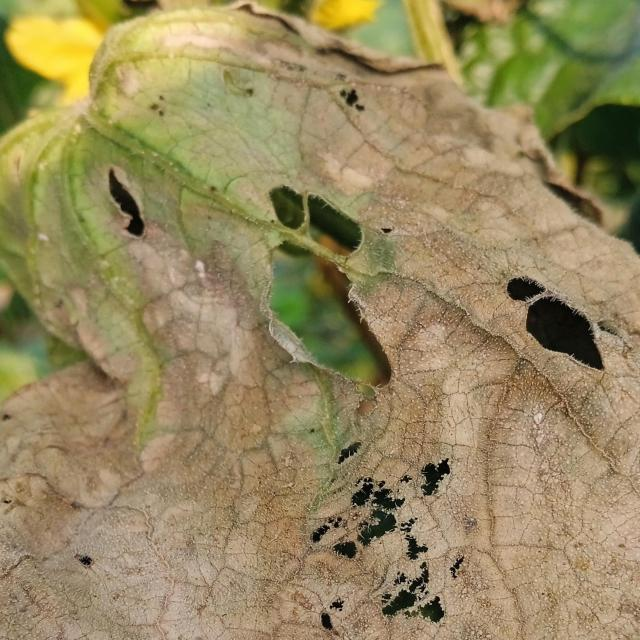cucumber_anthracnose: (43, 62, 625, 631)
